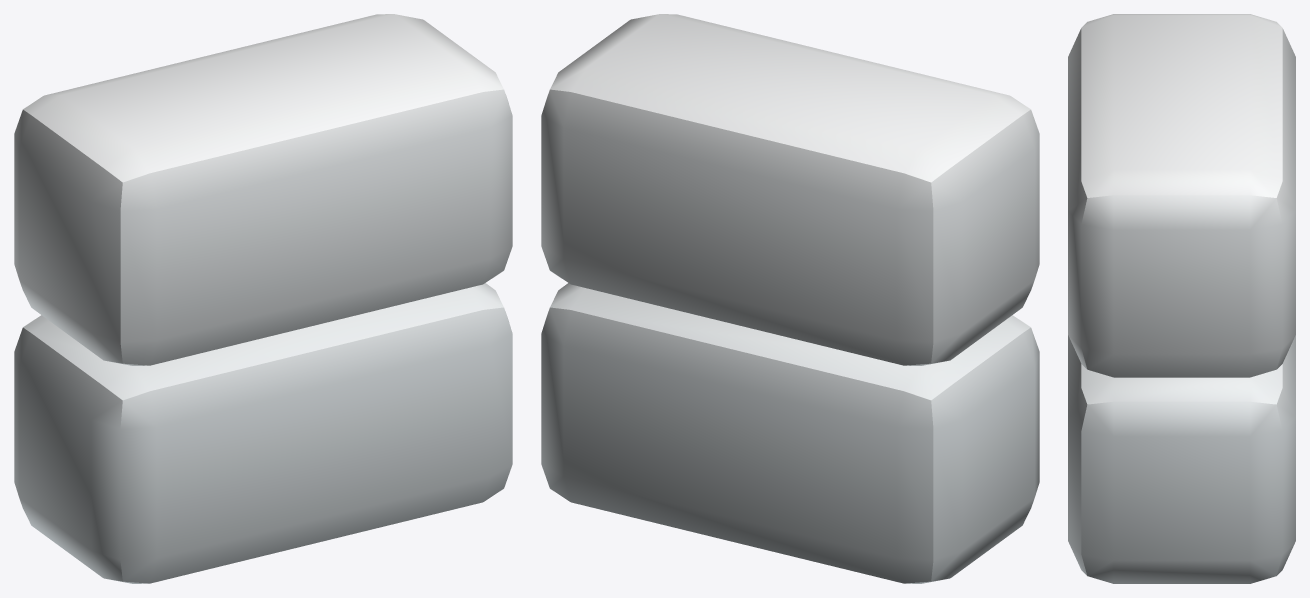
The model's file is barrier_2x1x2.glb.
The picture shows the model from 3 angles, left to right: view 1: azimuth 30°, elevation 25°; view 2: azimuth 150°, elevation 25°; view 3: azimuth 270°, elevation 25°; orthographic projection. The views are drawn at different scales.
Visible parts, largest first — view 1: barrier_2x1x2; view 2: barrier_2x1x2; view 3: barrier_2x1x2.
Part boxes in pixels (box(x1,y1,x2,y2)): barrier_2x1x2: box(14, 14, 512, 583); barrier_2x1x2: box(541, 14, 1039, 583); barrier_2x1x2: box(1068, 14, 1295, 583).
Bounding box in the file's own units: 2 × 2 × 1.
Materials: 1 (1 with a texture image).
